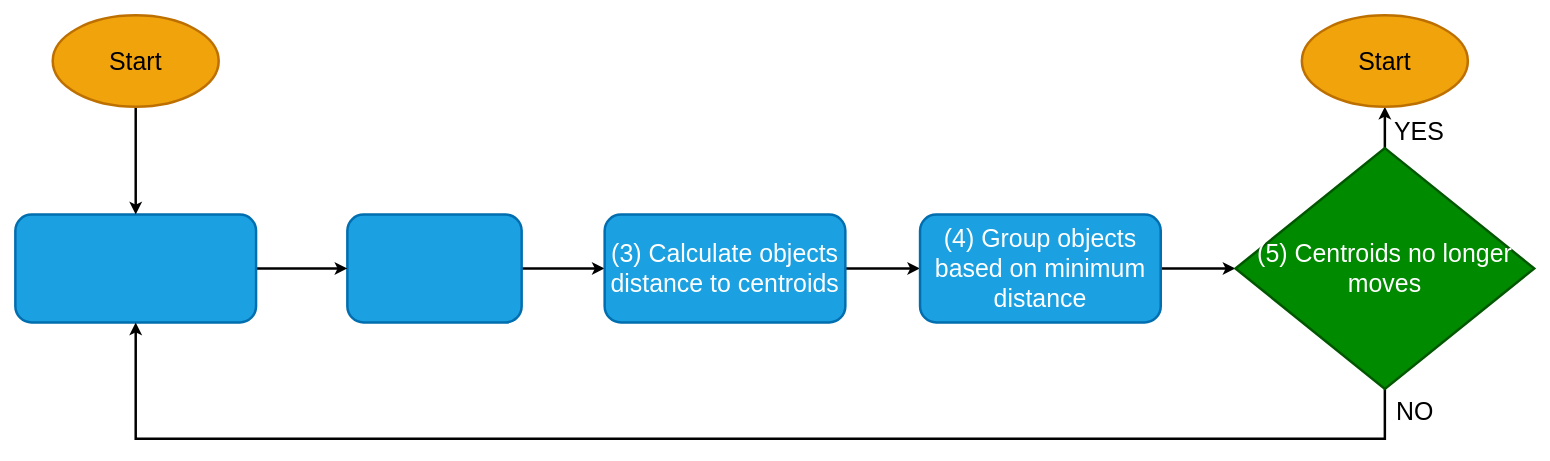
This 1550x461 diagram has some shape labels left out. The centre of each missing label's shape, as x and y in pixels:
(1) Choose number of cluster K: (x=135, y=268)
(2) Centroids: (x=434, y=268)
